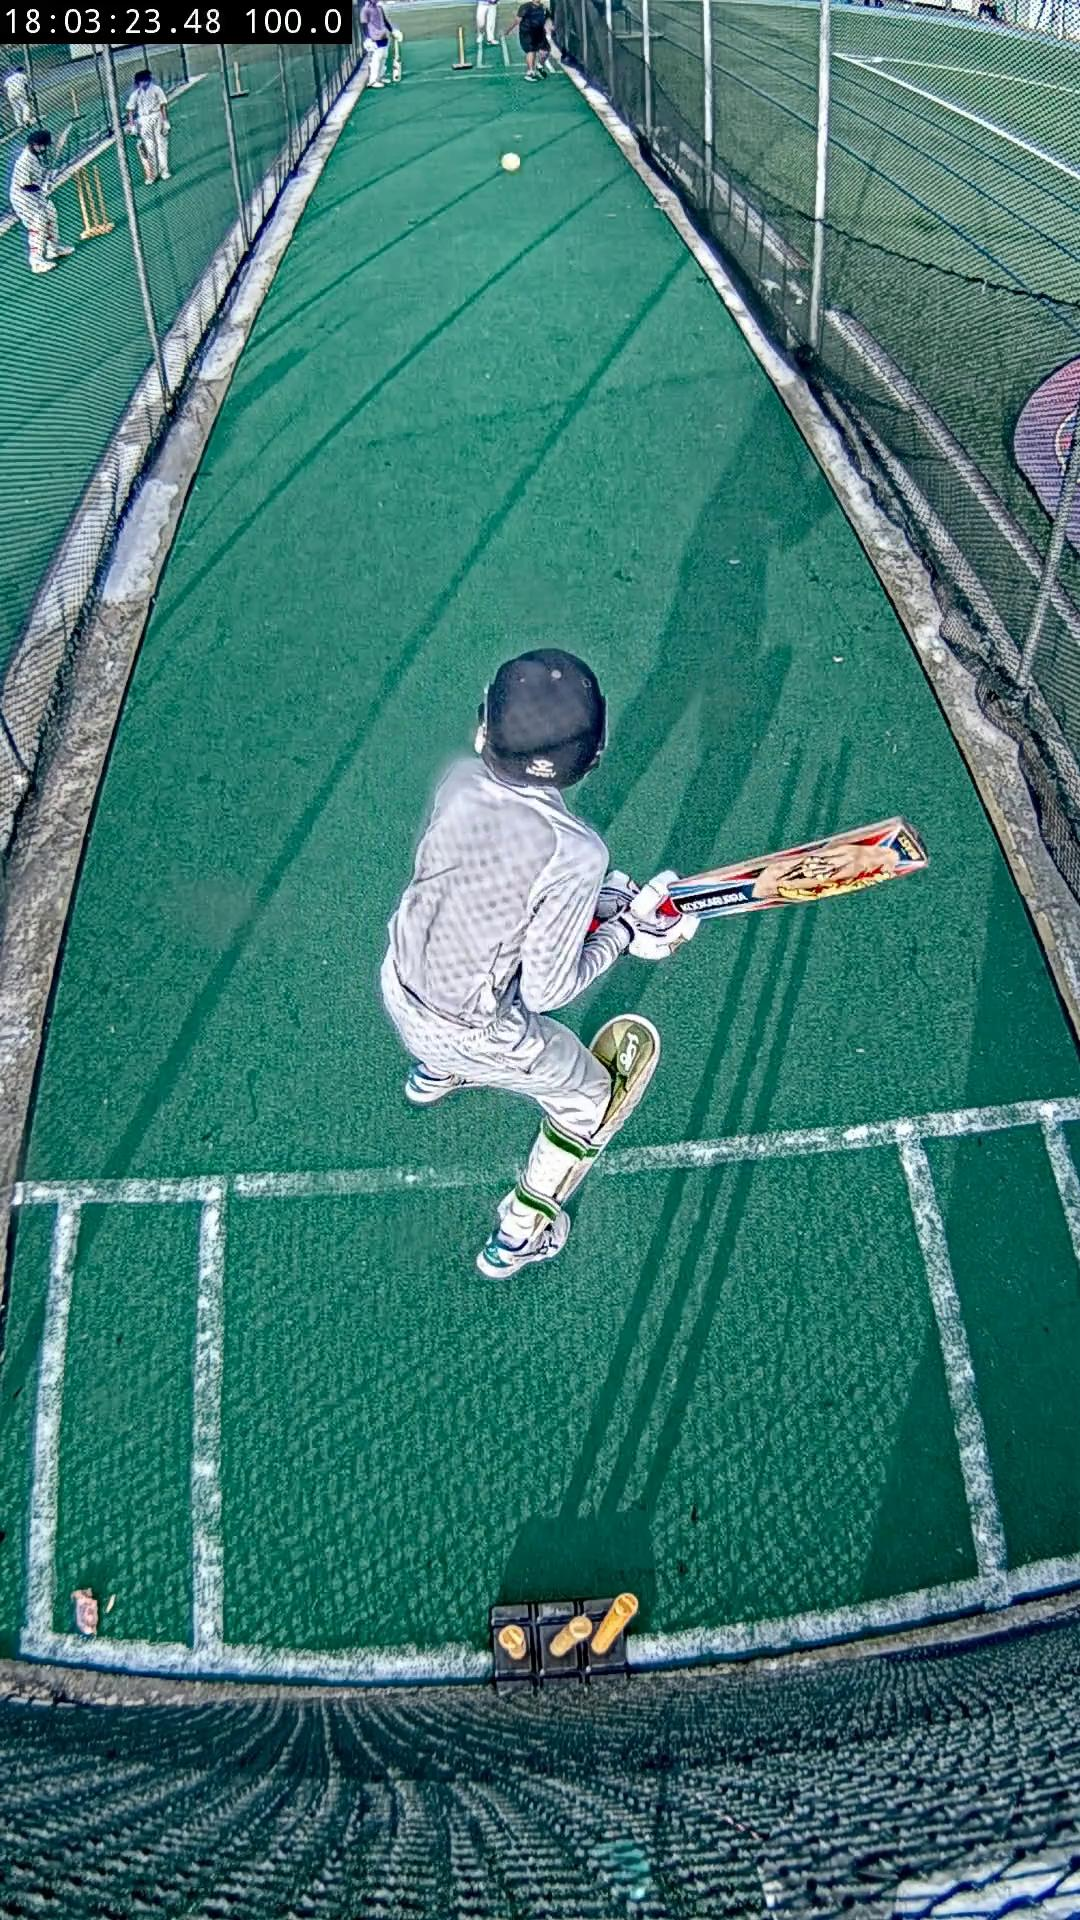ball: (502, 154, 521, 173)
bat: (663, 818, 926, 916)
gloves: (596, 870, 702, 960)
helmet: (484, 649, 608, 786)
pads: (555, 1013, 661, 1204)
stumps: (492, 1594, 637, 1684)
